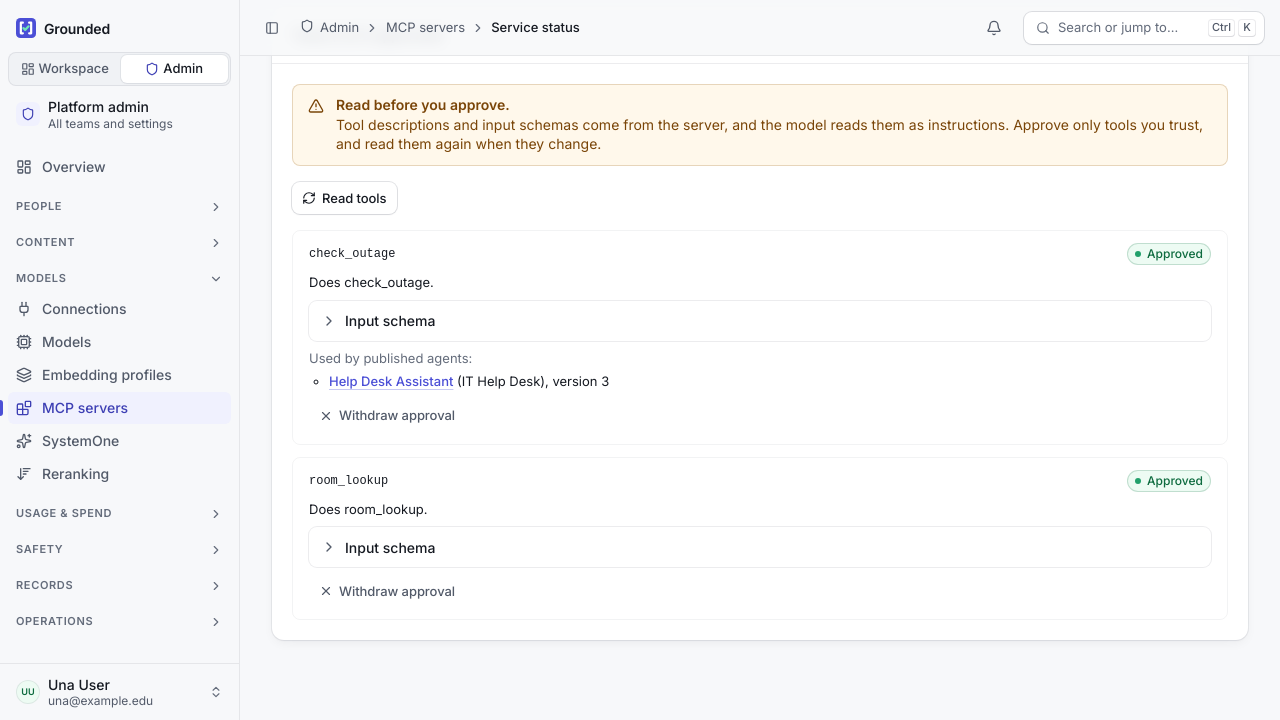
Admin → MCP servers: guarded changes › names the agents that use a tool, and asks before withdrawing its approval
This screenshot has width=1280, height=720.
(page scrolled)
Check: the list item "check_outage" shows "(IT Help Desk), version 3", box [292,230,1228,445]
Click the button with aria-label "Withdraw approval of check_outage" at (387, 416), box [309,400,465,432]
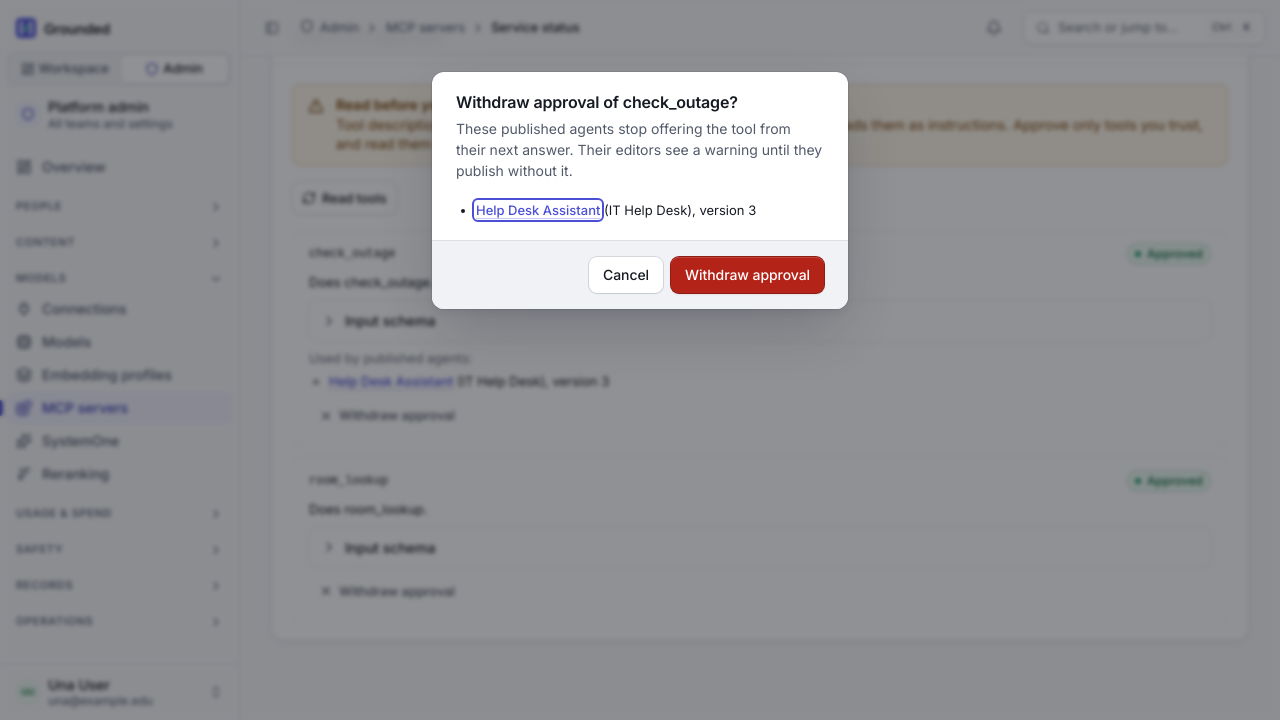
Check: the list named "Agents that use check_outage" shows "Help Desk Assistant", box [476,202,600,218]
Click the button "Withdraw approval" at (748, 275), box [671,257,824,293]
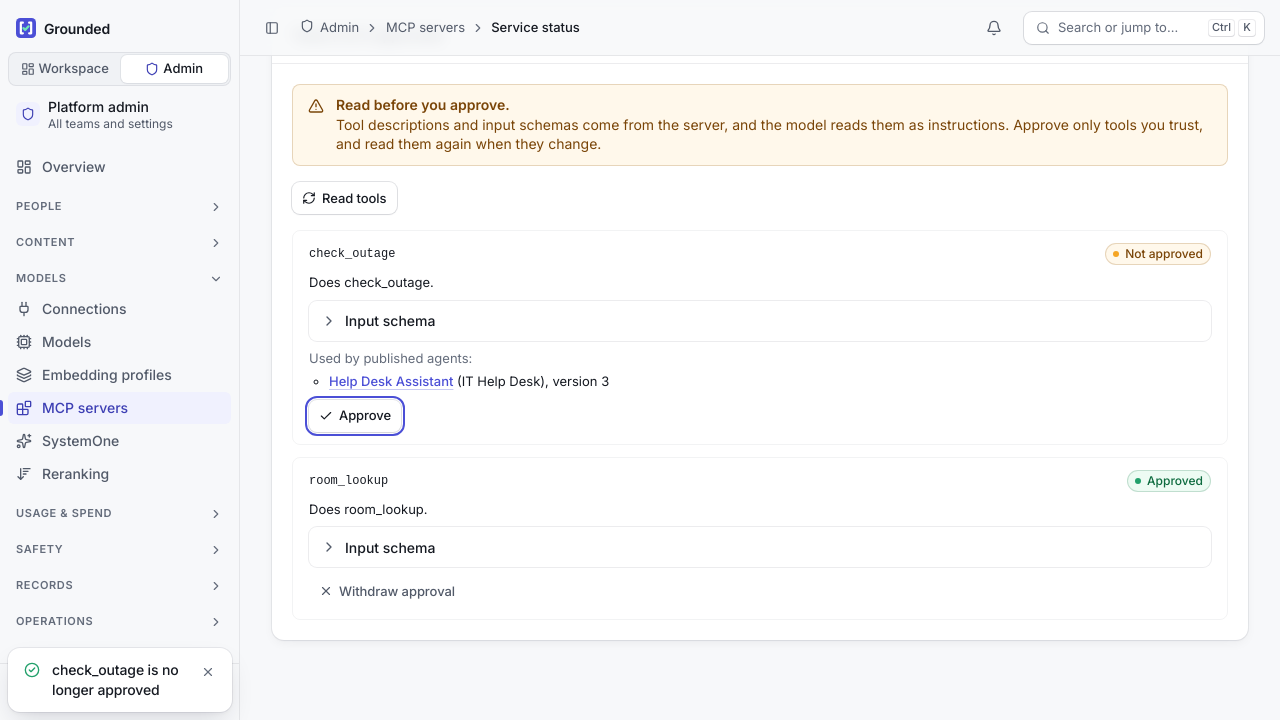
Check: the dialog is gone
